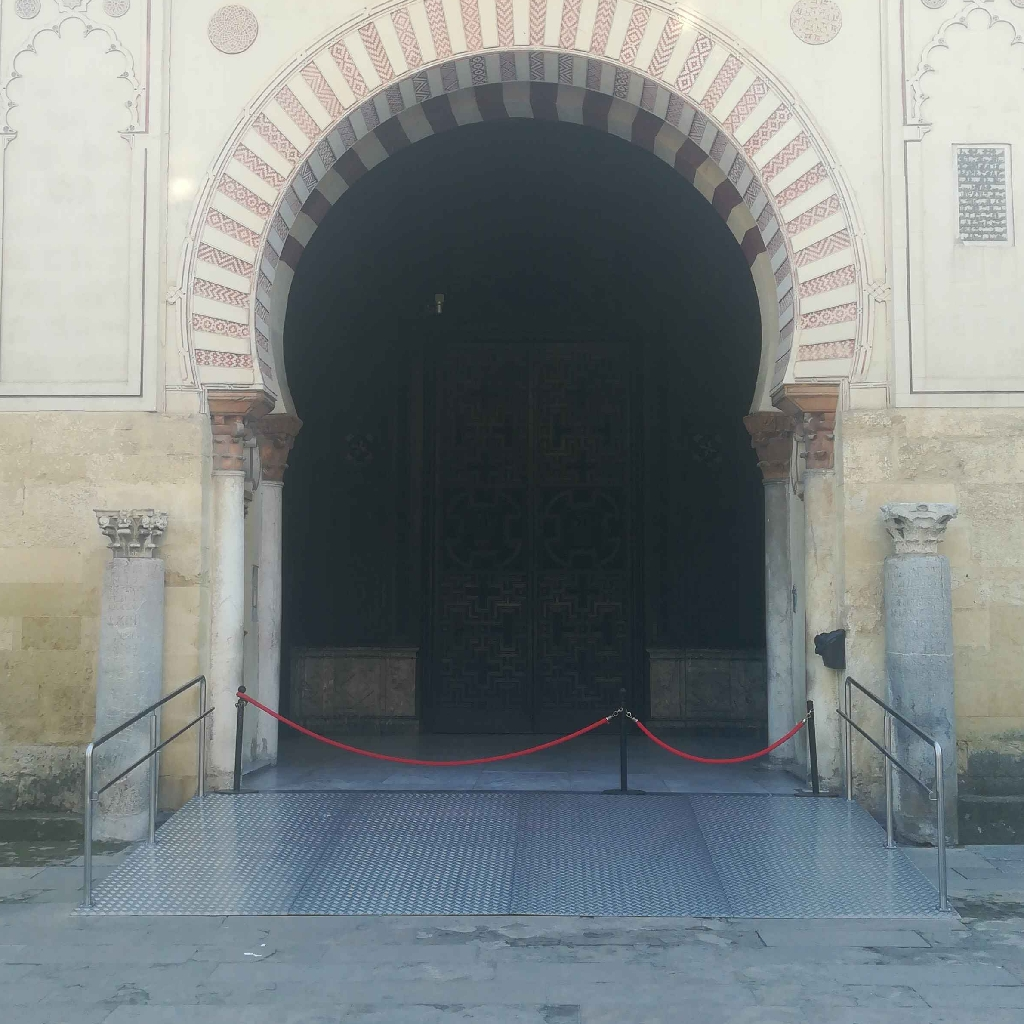arco-herradura: (208, 26, 830, 483)
